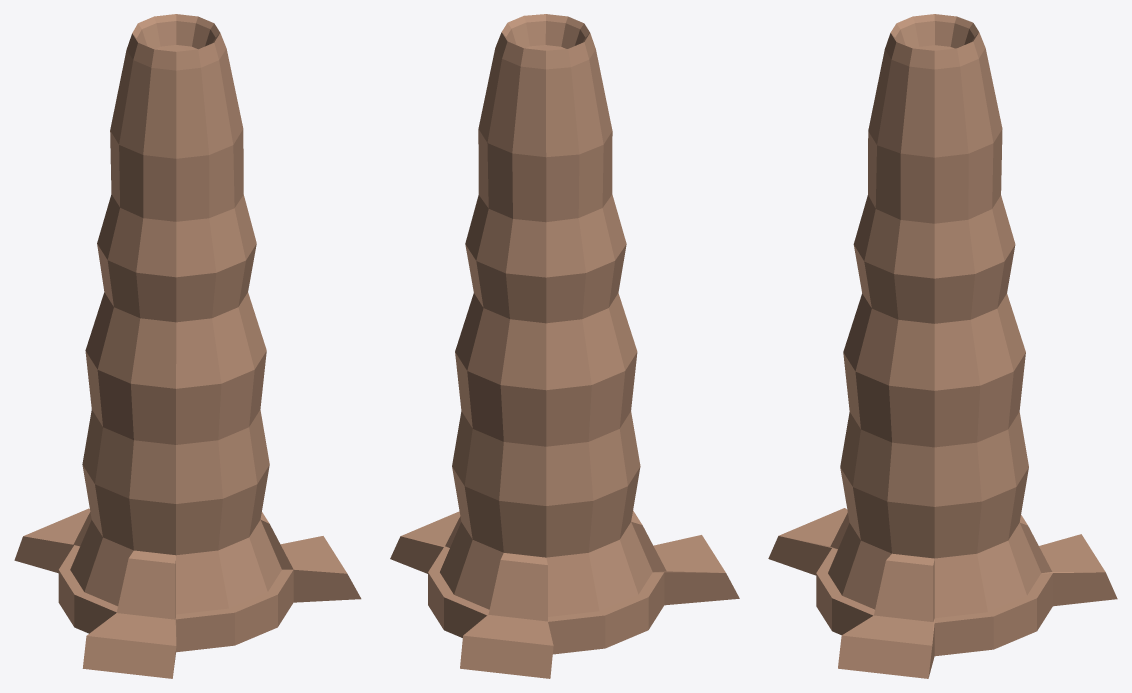
The model's file is TOWER.fbx.
The picture shows the model from 3 angles, left to right: view 1: azimuth 30°, elevation 25°; view 2: azimuth 150°, elevation 25°; view 3: azimuth 270°, elevation 25°; orthographic projection.
Visible parts, largest first — view 1: pCylinder1; view 2: pCylinder1; view 3: pCylinder1.
Part boxes in pixels (x1,y1,x2,y2): pCylinder1: (14,14,361,678); pCylinder1: (390,14,739,678); pCylinder1: (768,14,1117,678).
Size of the model in its own units: 9.09 by 16.43 by 9.06.
